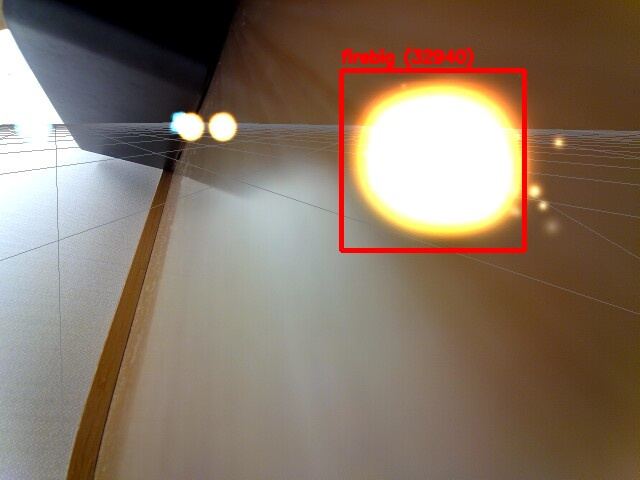firebig: (341, 70, 524, 250)
